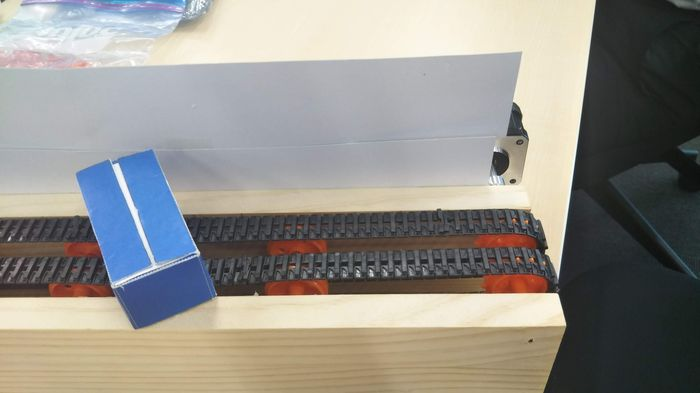box3: (72, 147, 218, 330)
